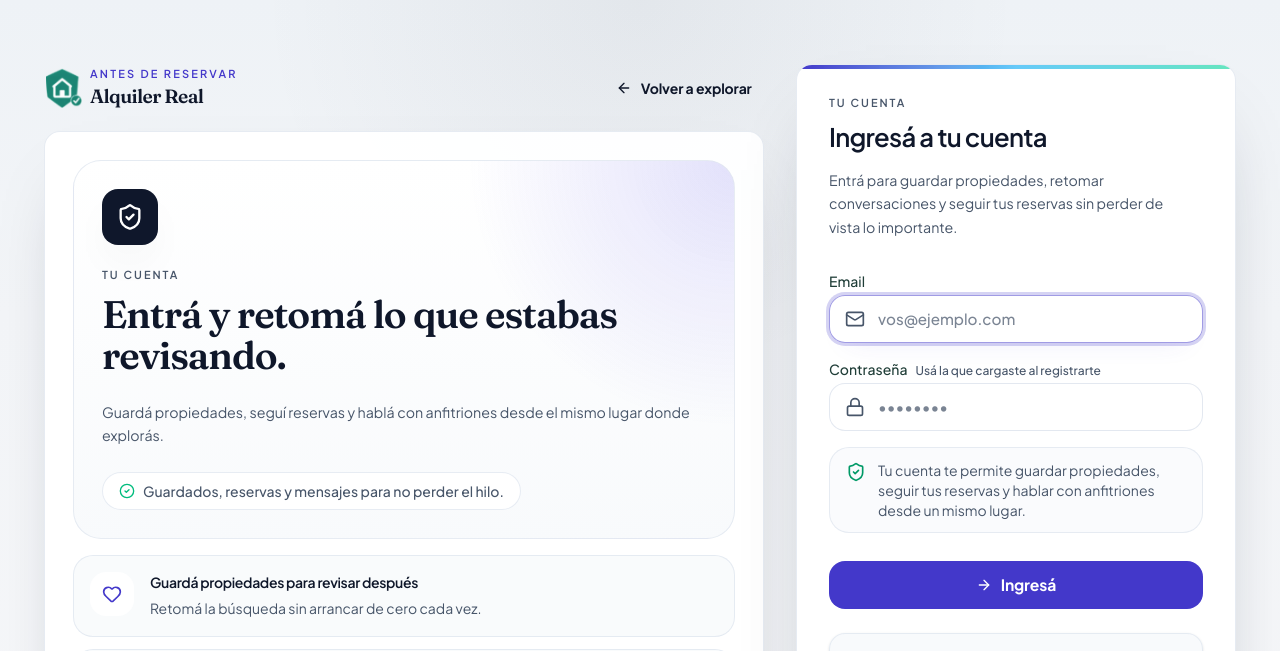
Test: Register screen › shows inline validation in login mode before submitting
Click the button "Ingresá": (1016, 584) [829,560,1203,608]
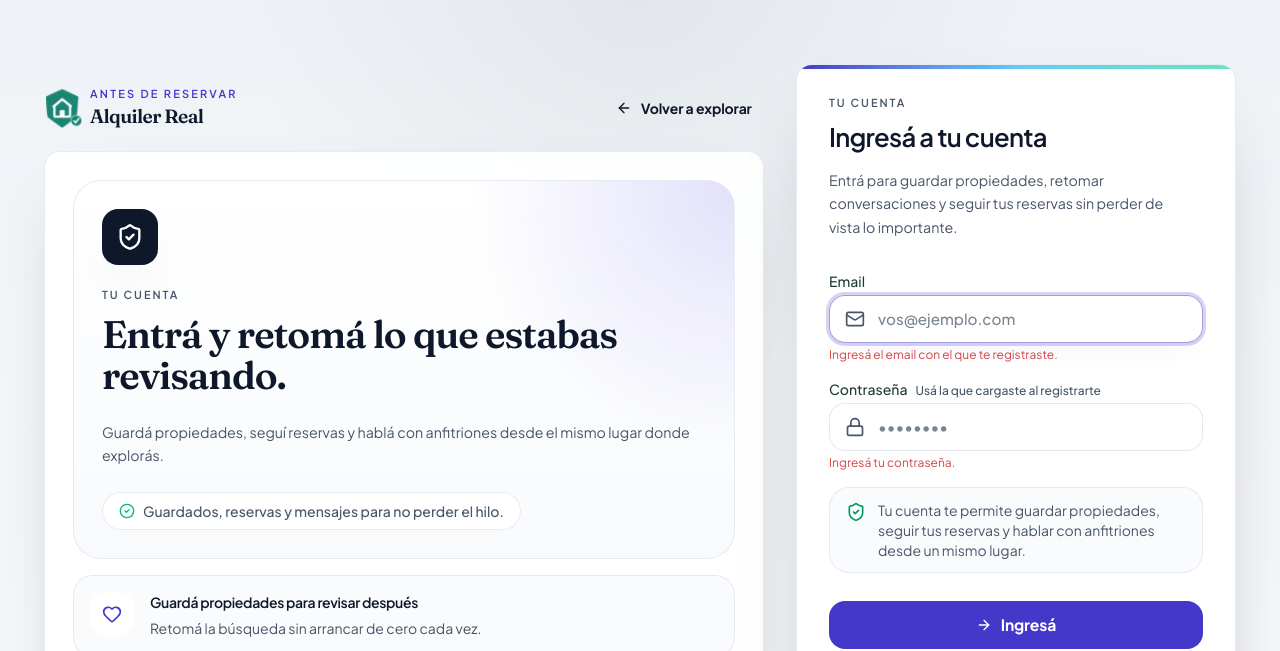
Expected: the text "Ingresá el email con el que te registraste." is shown, [829,347,1058,362]
Expected: the text "Ingresá tu contraseña." is shown, [829,454,955,470]
